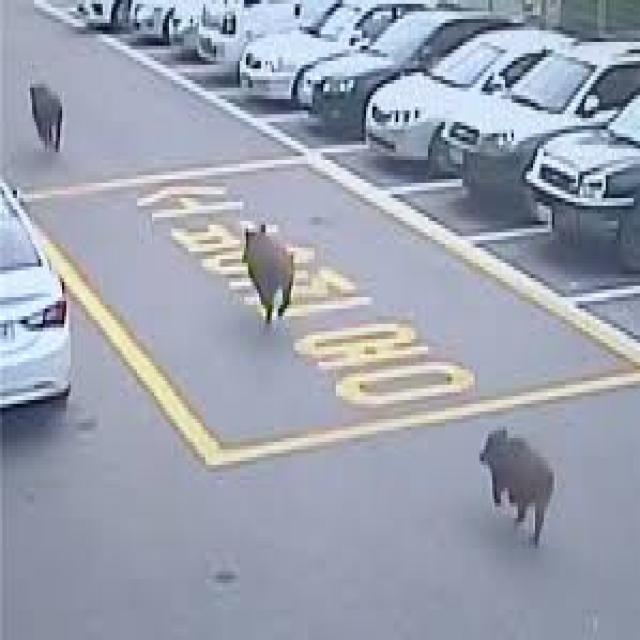boar: (468, 389, 602, 568), (218, 171, 309, 384), (9, 62, 82, 178)
